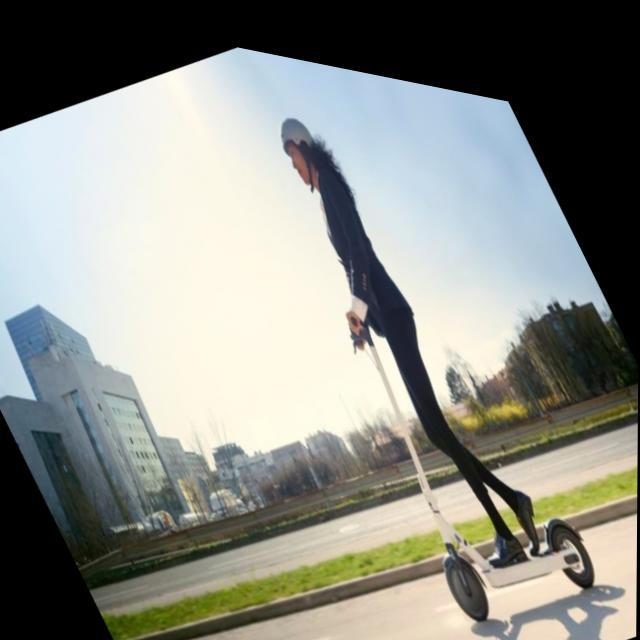Helmet: (269, 110, 331, 188)
